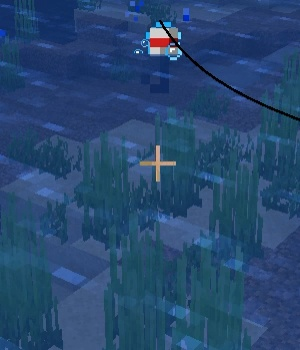up: (138, 19, 183, 93)
